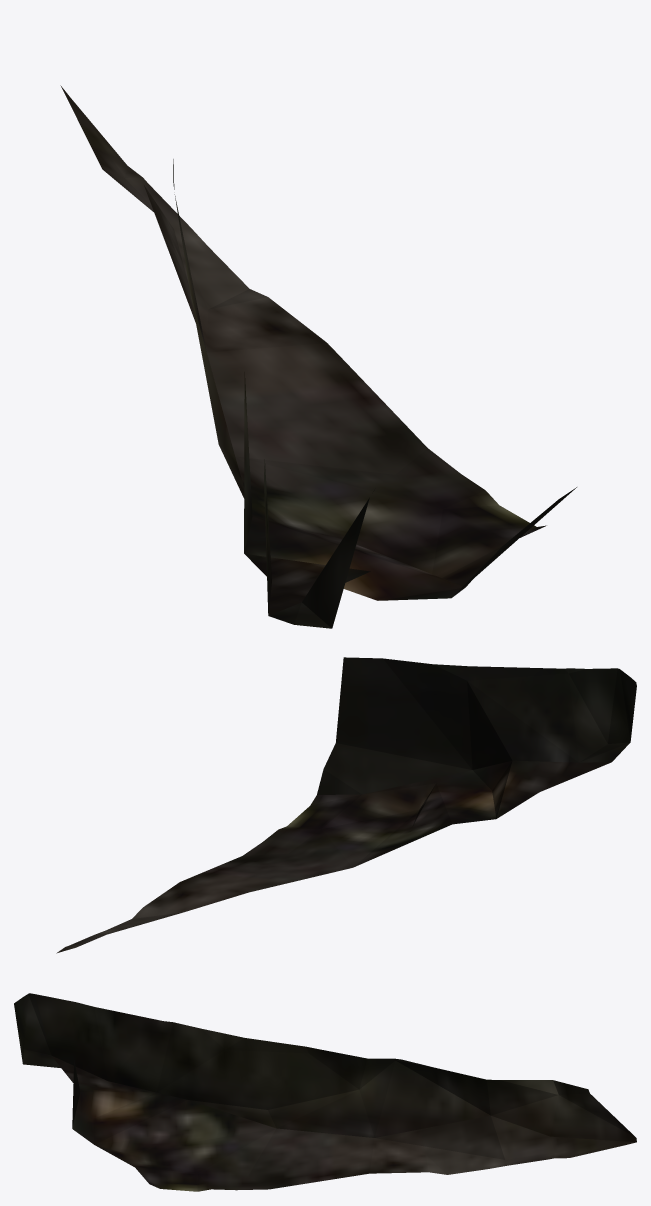
3 renders of one model, top to bottom at view 1: azimuth 30°, elevation 25°; view 2: azimuth 150°, elevation 25°; view 3: azimuth 270°, elevation 25°, orthographic. The views are drawn at different scales.
Size of the model in its own units: 0.2511 by 0.1245 by 0.686.
Materials: 1 (1 with a texture image).
